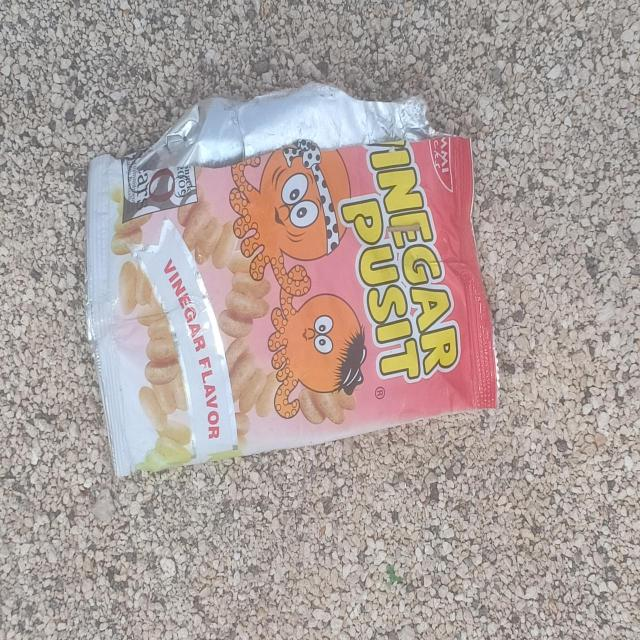plastic_waste: (82, 79, 502, 481)
